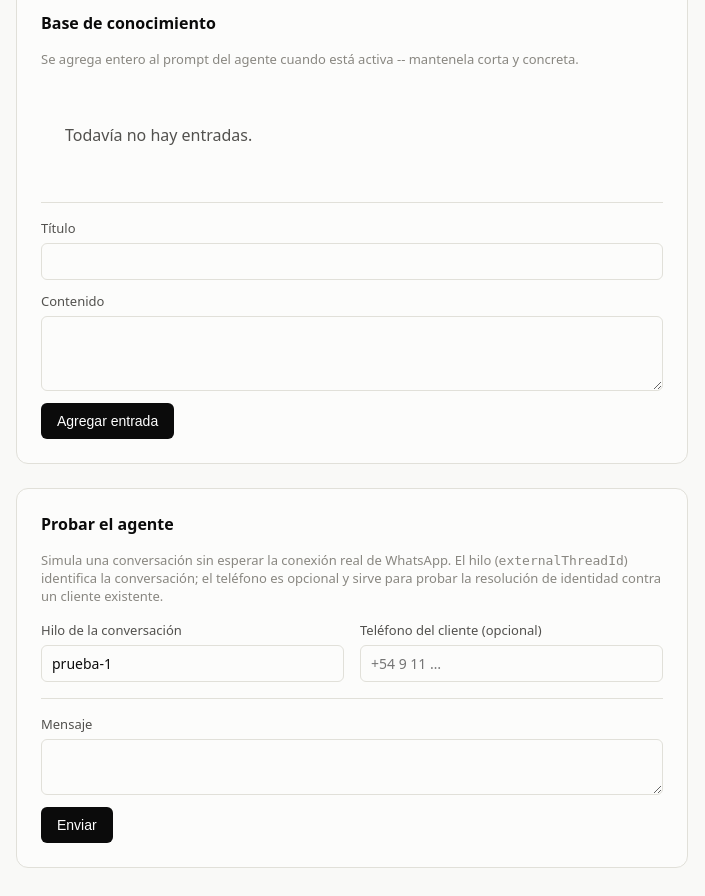
Test: AgentConfigPage › probar el agente manda el mensaje y muestra la respuesta
This screenshot has width=705, height=896.
(page scrolled)
Type "¿Cómo está mi cuota?" into the text box labelled "Mensaje" at (352, 767), box [41,739,663,795]
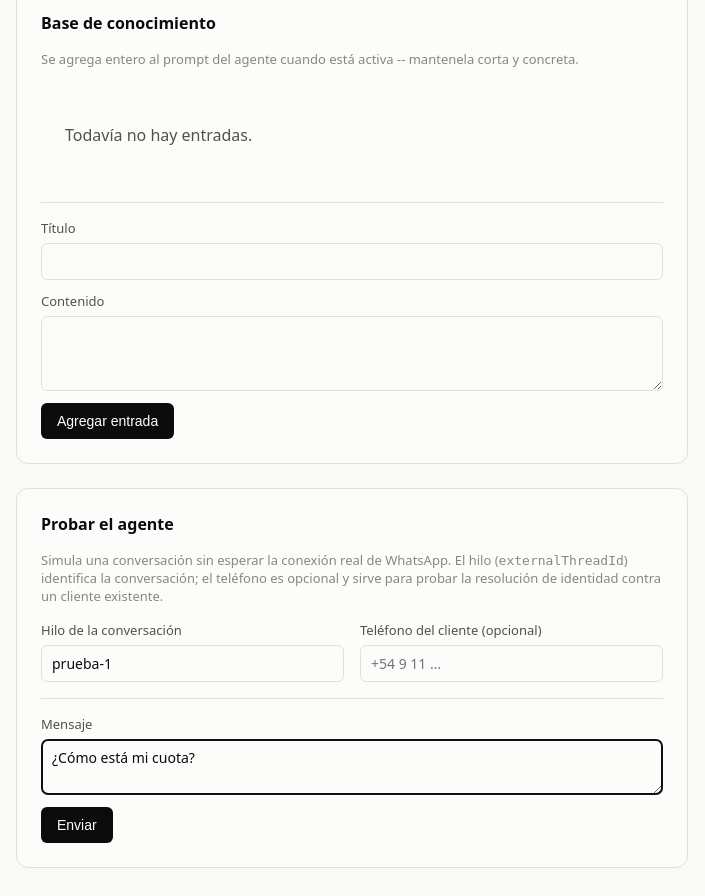
Click the button "Enviar" at (77, 825), box [41,807,113,843]
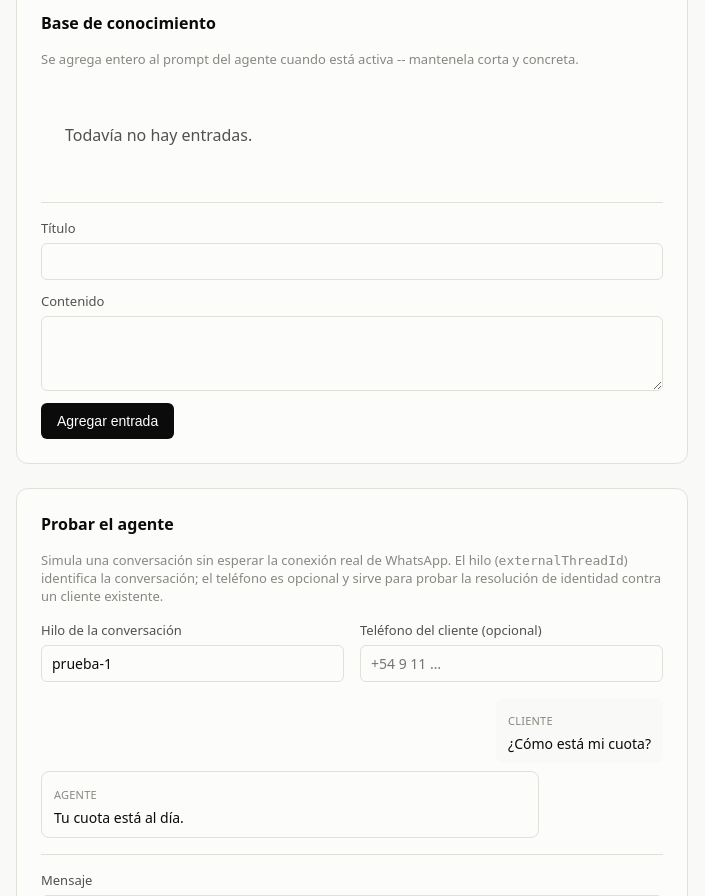
Expected: the text "Tu cuota está al día." is shown, [54,808,184,827]
Expected: the text "¿Cómo está mi cuota?" is shown, [508,734,651,753]
